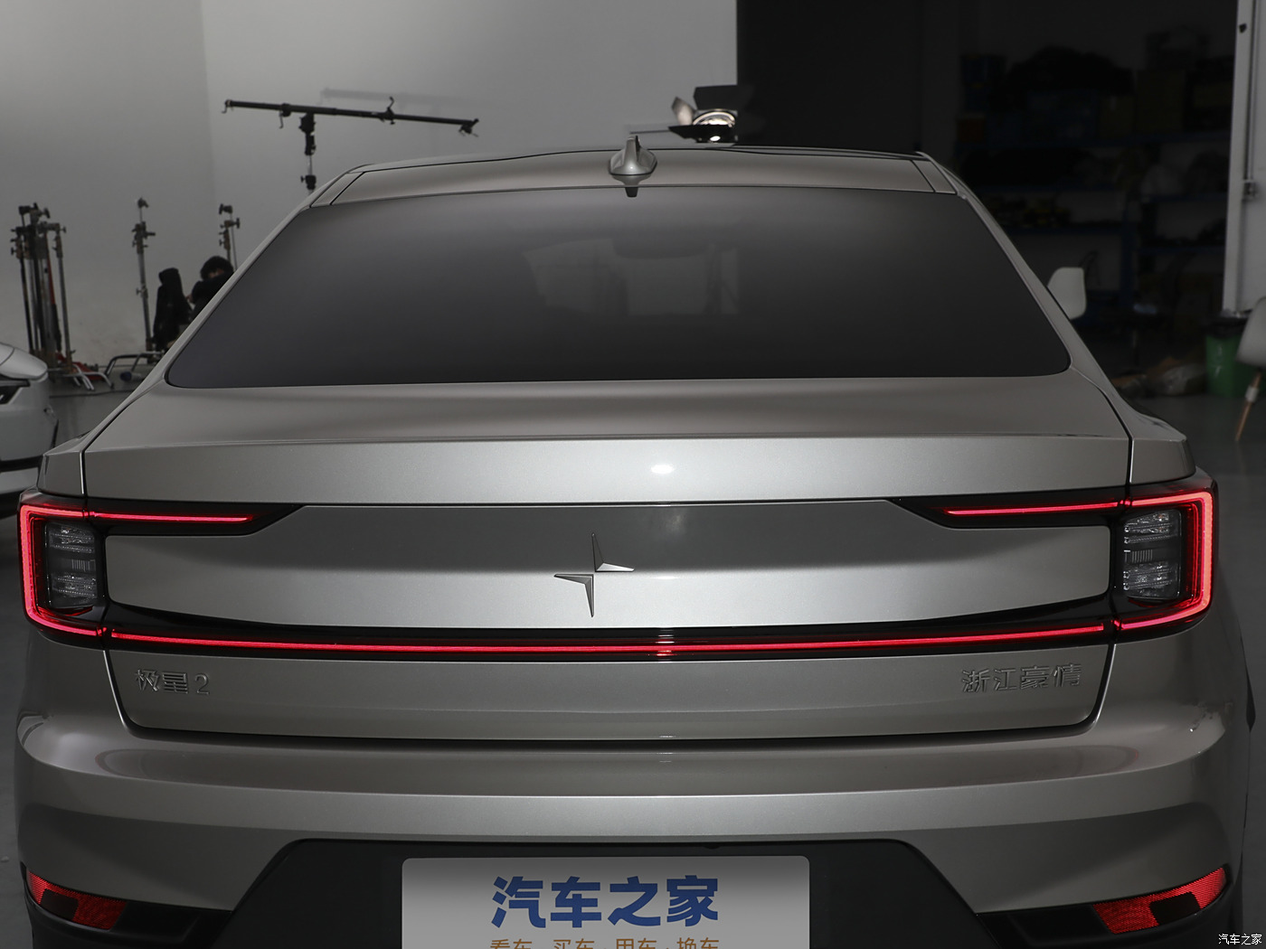Polestar: (554, 534, 634, 616)
